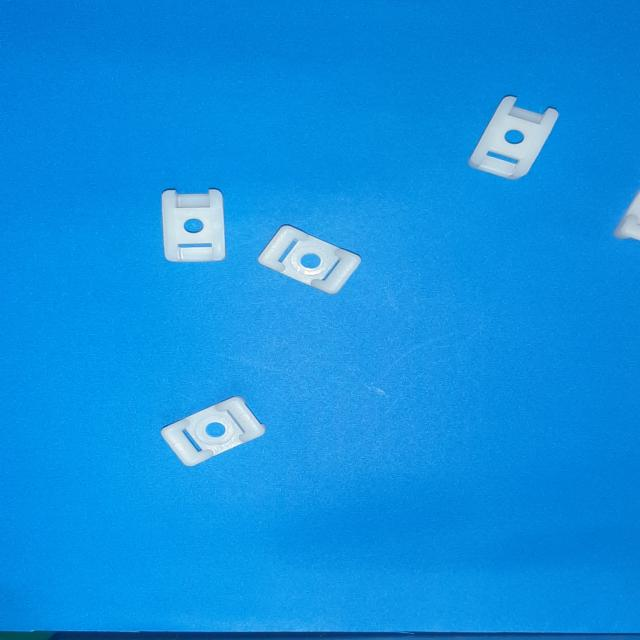false_1: (468, 96, 558, 180), (162, 189, 225, 262)
true: (162, 396, 265, 466), (258, 225, 362, 294)
true_center: (207, 422, 225, 438), (302, 254, 320, 269)
